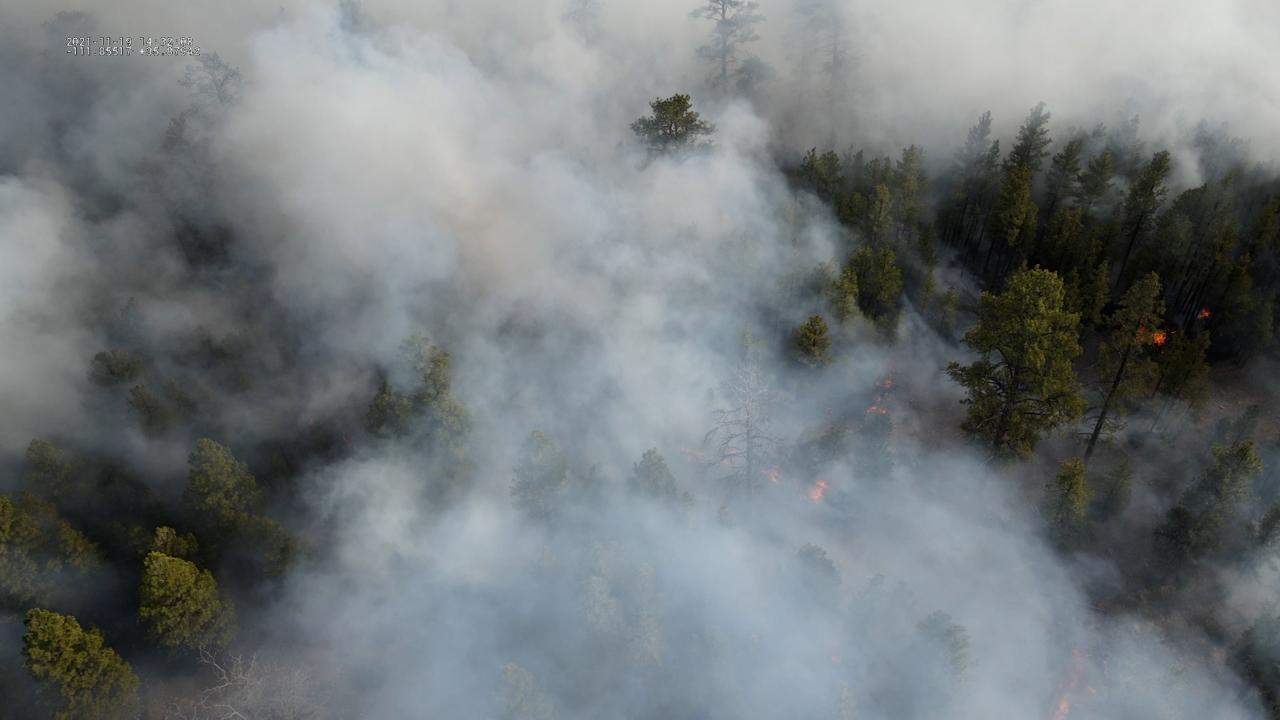fire: (1136, 324, 1167, 348), (1069, 647, 1084, 691), (808, 478, 830, 504), (1050, 698, 1073, 720), (759, 466, 780, 485), (1193, 307, 1212, 322), (863, 406, 892, 414), (882, 379, 893, 389)
smoke: (0, 0, 1280, 720)
